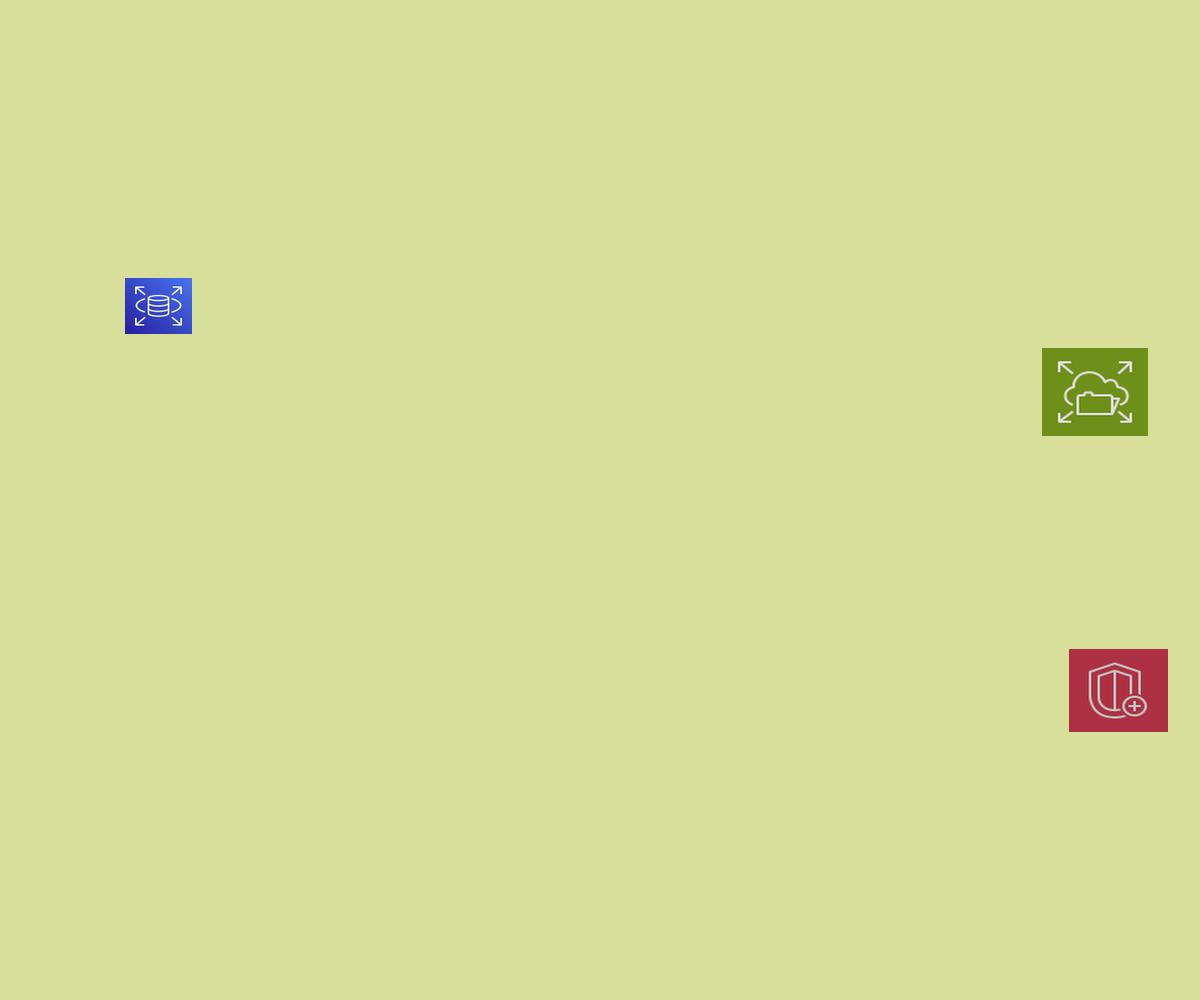AWS-EFS: (1042, 348, 1148, 436)
AWS-RDS: (125, 278, 192, 334)
AWS-Shield: (1069, 649, 1168, 732)
